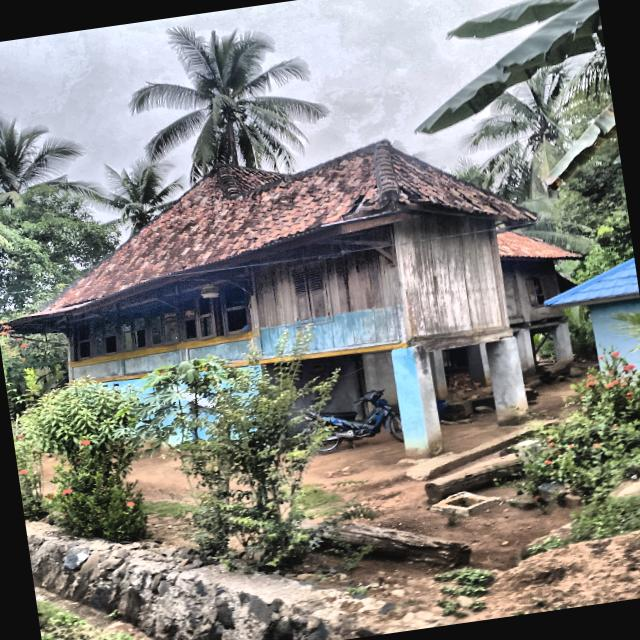column: (392, 345, 444, 459), (486, 337, 531, 426), (467, 344, 493, 387), (515, 328, 536, 379), (430, 350, 448, 397), (553, 322, 573, 360)
roof: (37, 139, 536, 311), (497, 232, 584, 256)
wall: (68, 213, 565, 385)
window: (74, 281, 253, 365), (289, 259, 335, 329), (525, 275, 547, 308)
